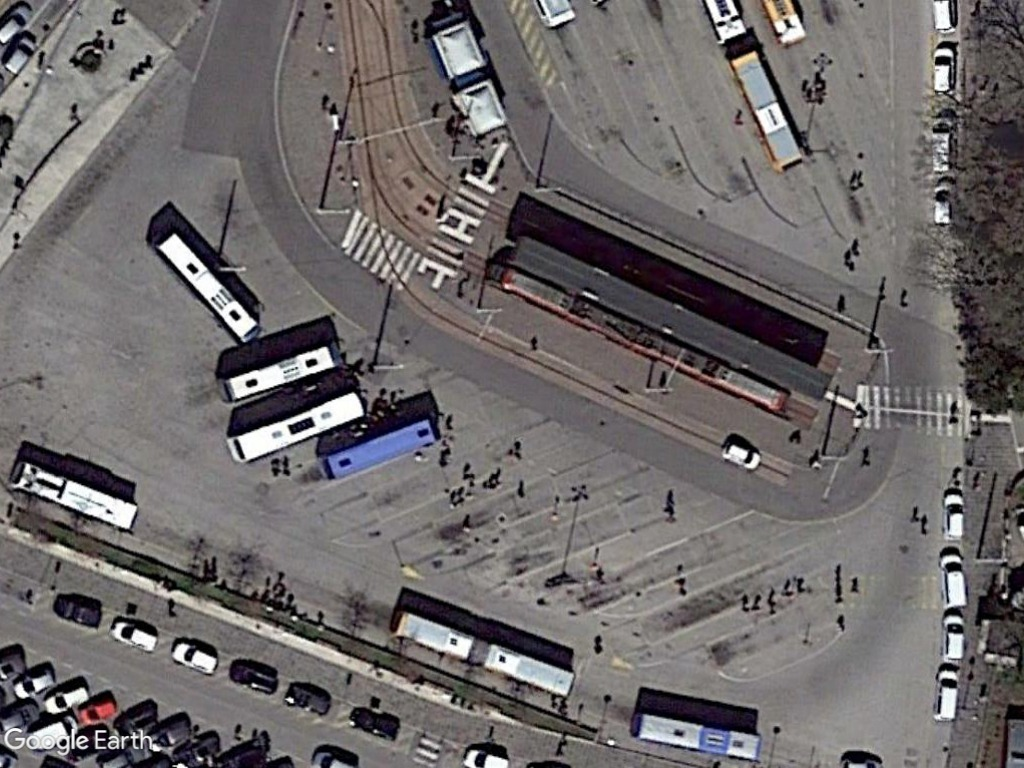bus: (389, 609, 584, 702), (153, 229, 263, 342), (224, 386, 370, 469), (724, 42, 813, 176), (8, 456, 142, 537), (315, 412, 442, 486), (627, 707, 767, 765), (221, 340, 341, 405)
car: (936, 548, 972, 614), (108, 615, 164, 657), (169, 638, 222, 679), (38, 680, 92, 719), (1, 31, 40, 80), (929, 41, 960, 101), (932, 667, 963, 727), (7, 665, 58, 701), (939, 486, 968, 545), (78, 695, 125, 730), (941, 612, 965, 665)
